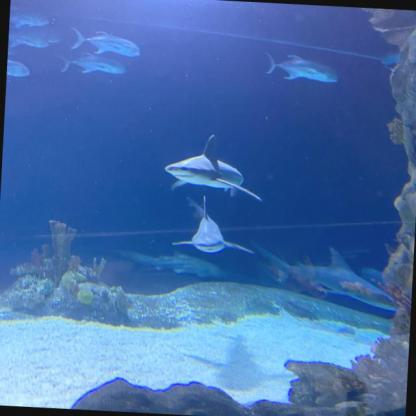fish: (266, 51, 341, 85), (75, 26, 142, 57), (61, 53, 129, 74), (9, 5, 55, 28), (8, 29, 51, 50), (9, 29, 64, 44), (7, 61, 35, 80)
shark: (274, 248, 403, 313), (162, 139, 258, 198), (169, 204, 239, 256), (128, 253, 230, 279)
